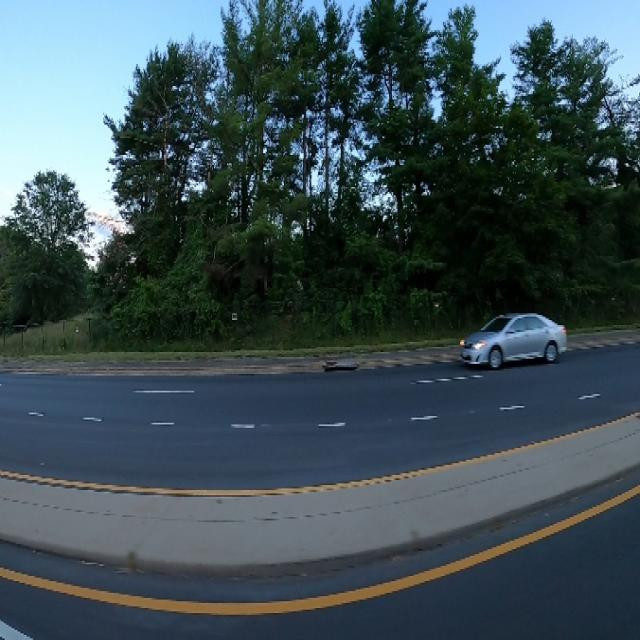cars: (458, 307, 570, 374)
